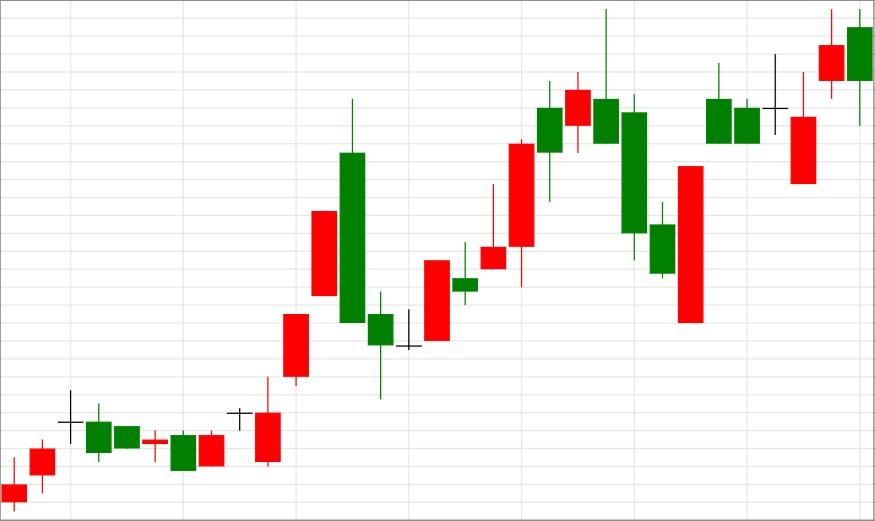bullish_engulfing_rise: (564, 8, 706, 325)
morning_star_rise: (338, 98, 451, 399)
shooting_star_fall: (367, 9, 620, 399)
three_white_soldiers_rise: (58, 211, 338, 472)
